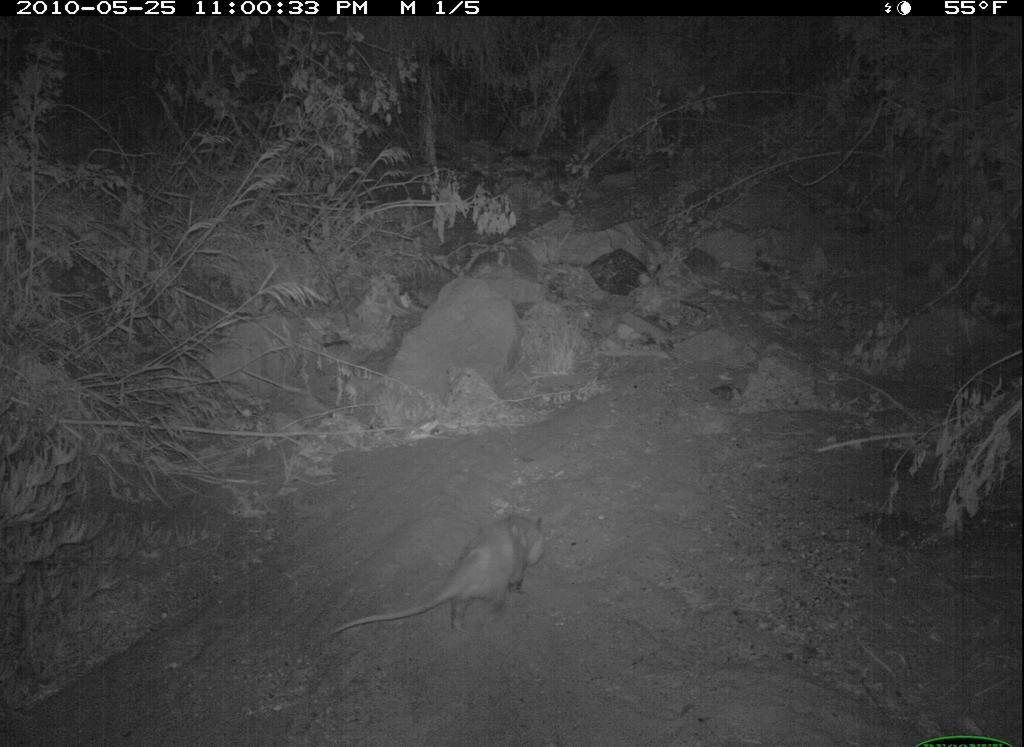opossum: (323, 511, 548, 645)
